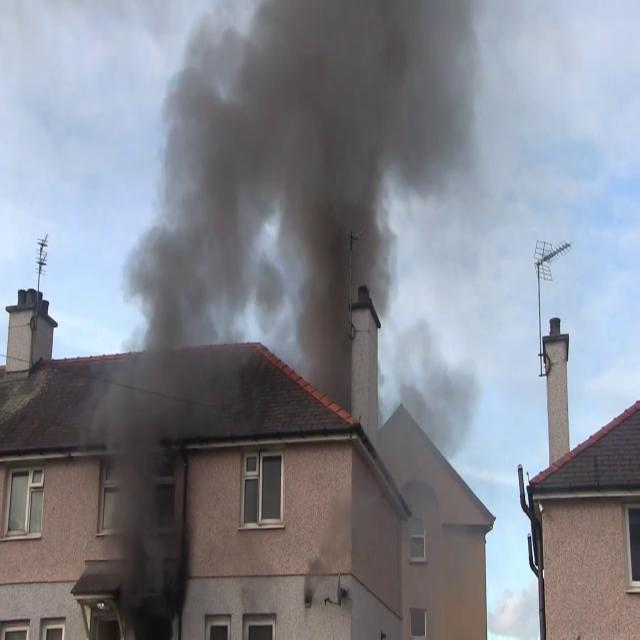Smoke: (132, 2, 524, 326), (96, 234, 252, 633), (314, 317, 494, 622)
